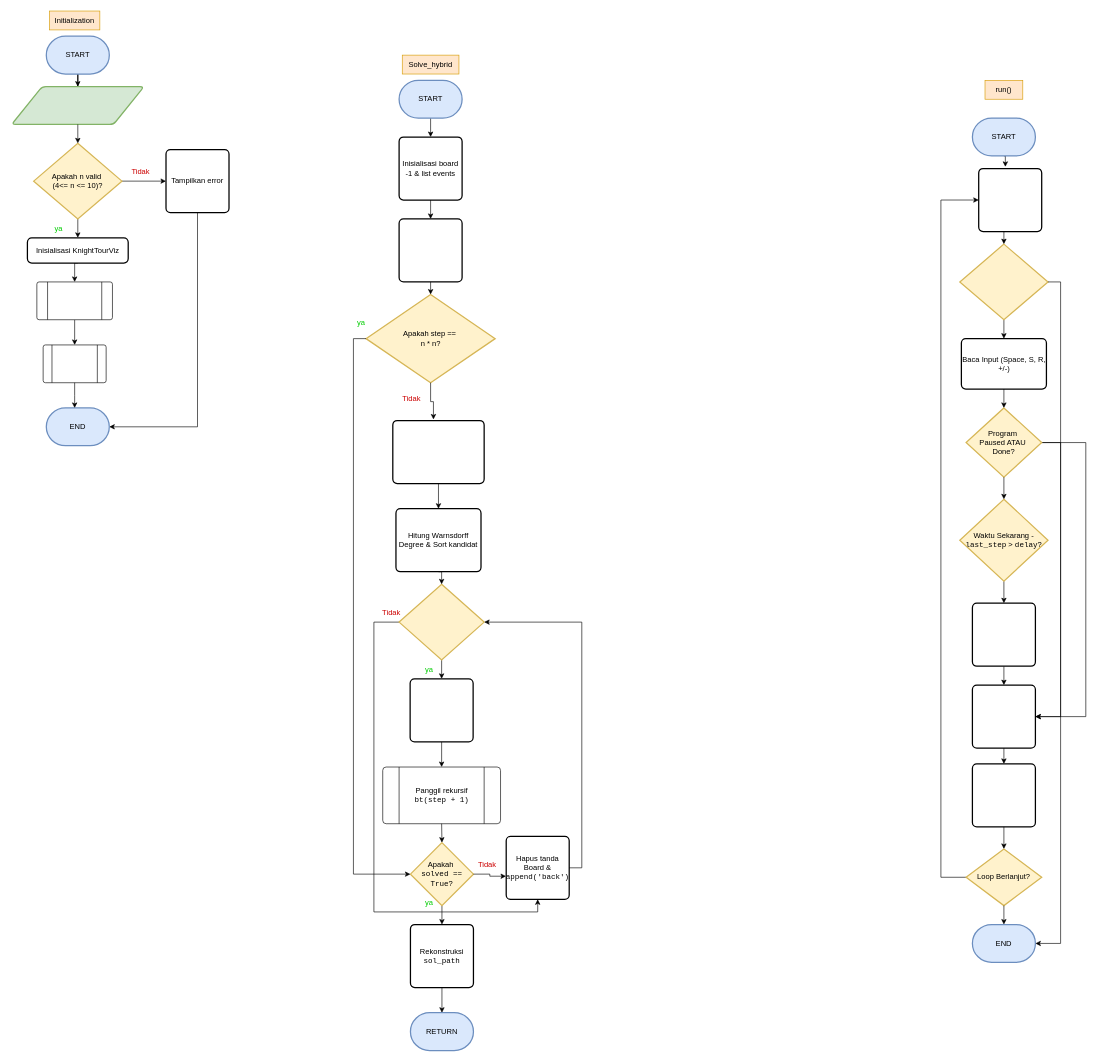
Some shapes in this 1102 by 1062 pixel diagram are drawn without their labels. The shapes that lost their labels are listed below. From the top down, each one's centre as x and y in pixels, then its label:
At pixel 77 105: "Baca argumen n , start_r , start_c".
At pixel 1010 200: "Mulai Loop while True".
At pixel 430 250: "Isi posisi awal di board (langkah 0)".
At pixel 74 300: "Panggil _compute ()".
At pixel 1003 281: "Ada event keyboard (Quit/ESC)?".
At pixel 74 363: "Panggil run ()".
At pixel 438 452: "Cari kandidat langkah (L-shape)".
At pixel 441 621: "Masih ada kandidat yang belum dicoba?".
At pixel 1003 634: "Panggil _step() (Ambil event selanjutnya)".
At pixel 441 710: "Tandai Board & append('move')".
At pixel 1003 716: "Render: draw_board() , trail() , knight()".
At pixel 1003 795: "Update layar ( display.flip )".
